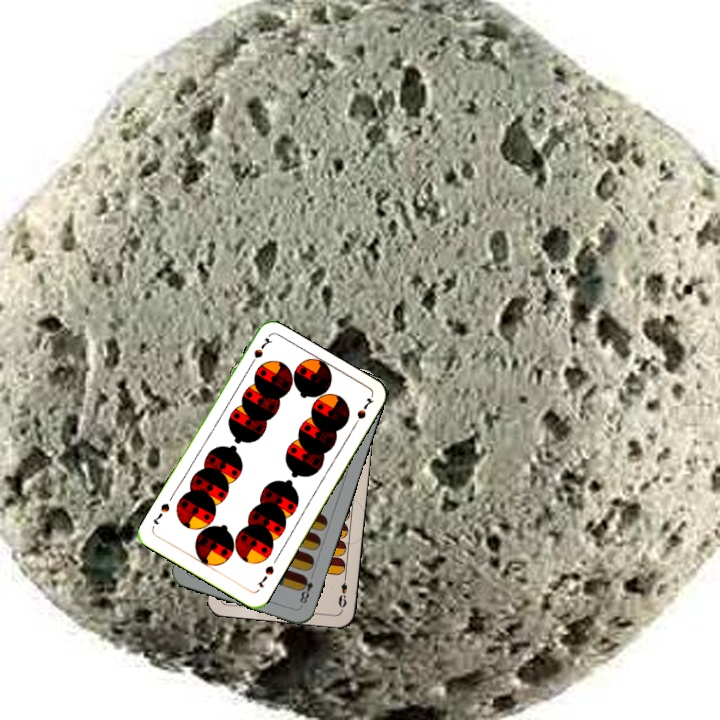E8: (295, 570, 316, 609)
E9: (334, 571, 350, 610)
S7: (245, 333, 274, 370), (254, 561, 277, 590)
